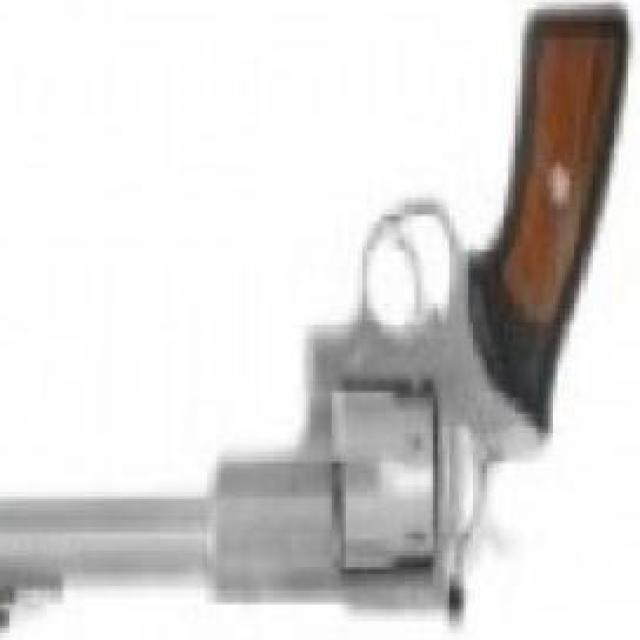pistol: (0, 24, 626, 640)
